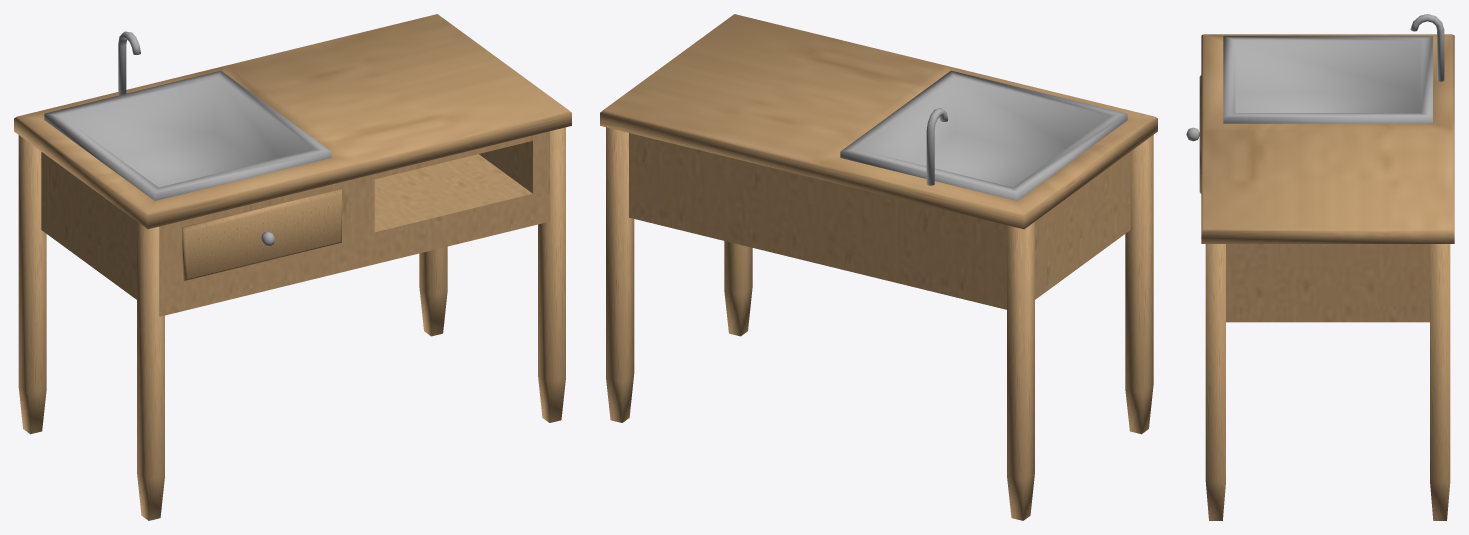
The model's file is K_Sink.glb.
3 renders of one model, left to right at view 1: azimuth 30°, elevation 25°; view 2: azimuth 150°, elevation 25°; view 3: azimuth 270°, elevation 25°, orthographic. The views are drawn at different scales.
Visible parts, largest first — view 1: Kitchen_Sink; view 2: Kitchen_Sink; view 3: Kitchen_Sink.
Boxes of the visible parts, x1,y1,x2,y2 form: Kitchen_Sink: (14, 14, 571, 520); Kitchen_Sink: (600, 14, 1157, 520); Kitchen_Sink: (1186, 14, 1454, 520).
Bounding box in the file's own units: 2.19 × 1.88 × 1.27.
2 materials, 1 textured.
